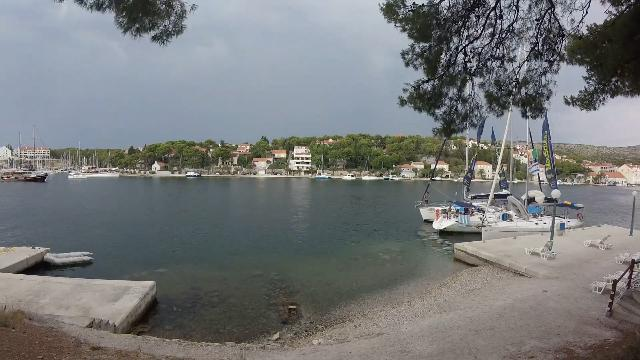Freighter: (3, 166, 53, 184)
Sailboat: (64, 168, 90, 184)
